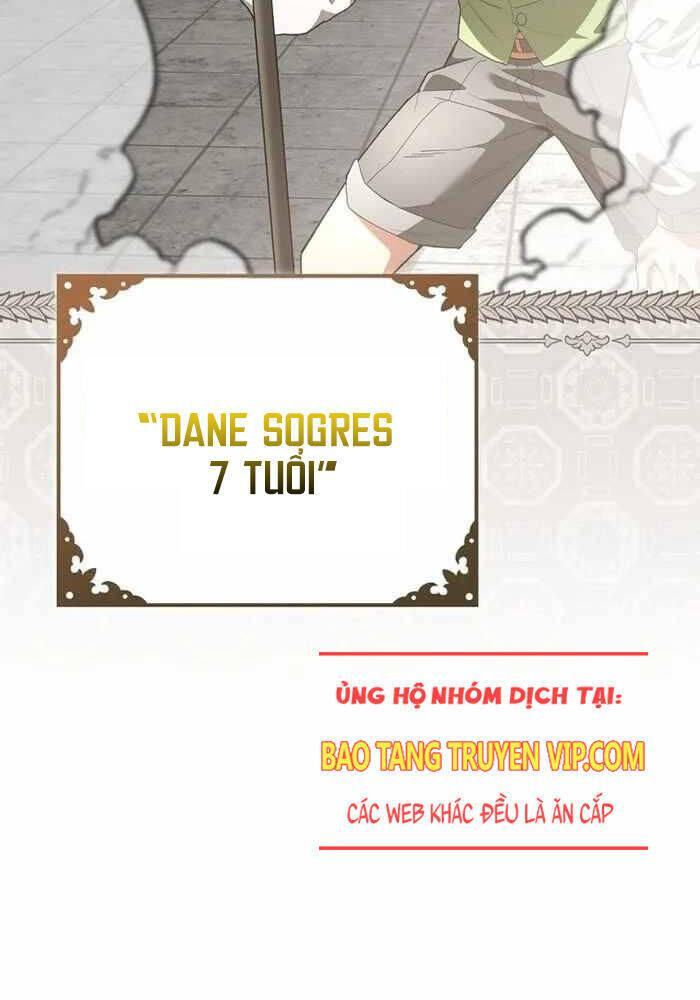quangcao: (317, 653, 651, 849)
